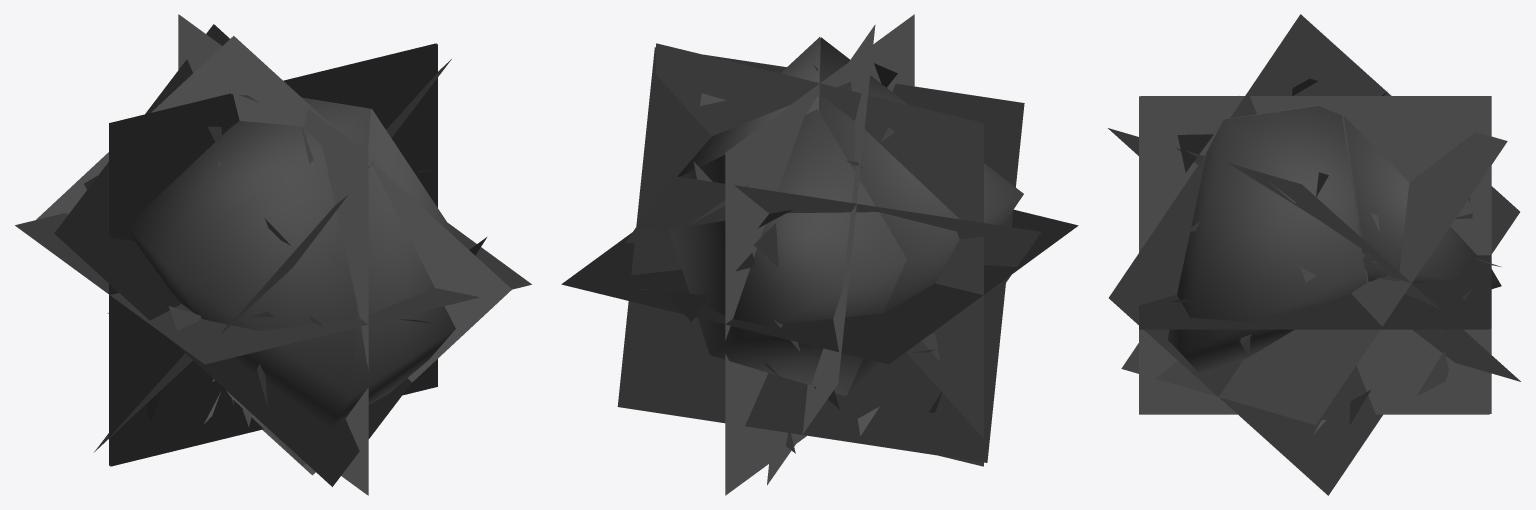
The model's file is asteroid_explo.glb.
3 renders of one model, left to right at view 1: azimuth 30°, elevation 25°; view 2: azimuth 150°, elevation 25°; view 3: azimuth 270°, elevation 25°, orthographic. The views are drawn at different scales.
Visible parts, largest first — view 1: group_124, group_81; view 2: group_124, group_81; view 3: group_124, group_81.
Part boxes in pixels (x1,y1,x2,y2): group_124: (15, 14, 531, 495); group_81: (84, 67, 486, 465); group_124: (561, 14, 1078, 495); group_81: (640, 37, 1023, 453); group_124: (1108, 14, 1520, 495); group_81: (1167, 78, 1501, 434).
Size of the model in its own units: 5440 by 5604 by 4792.
2 materials, 2 textured.
